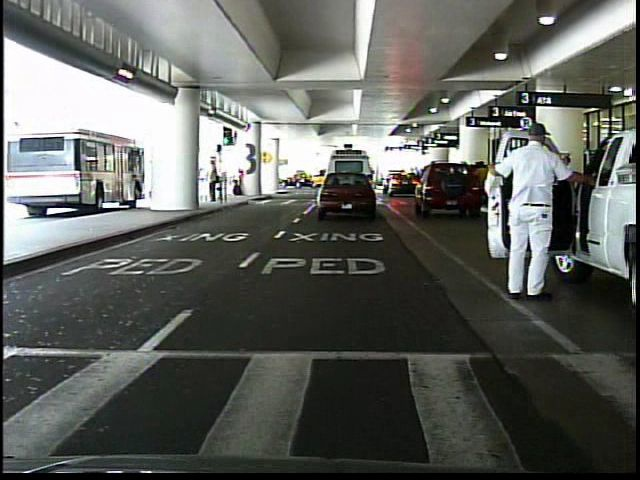person: (487, 117, 575, 303), (548, 149, 579, 228), (206, 155, 221, 204), (231, 163, 247, 199), (469, 157, 487, 181)
